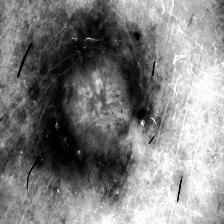Benign Marking or Mole: (26, 6, 173, 200)
